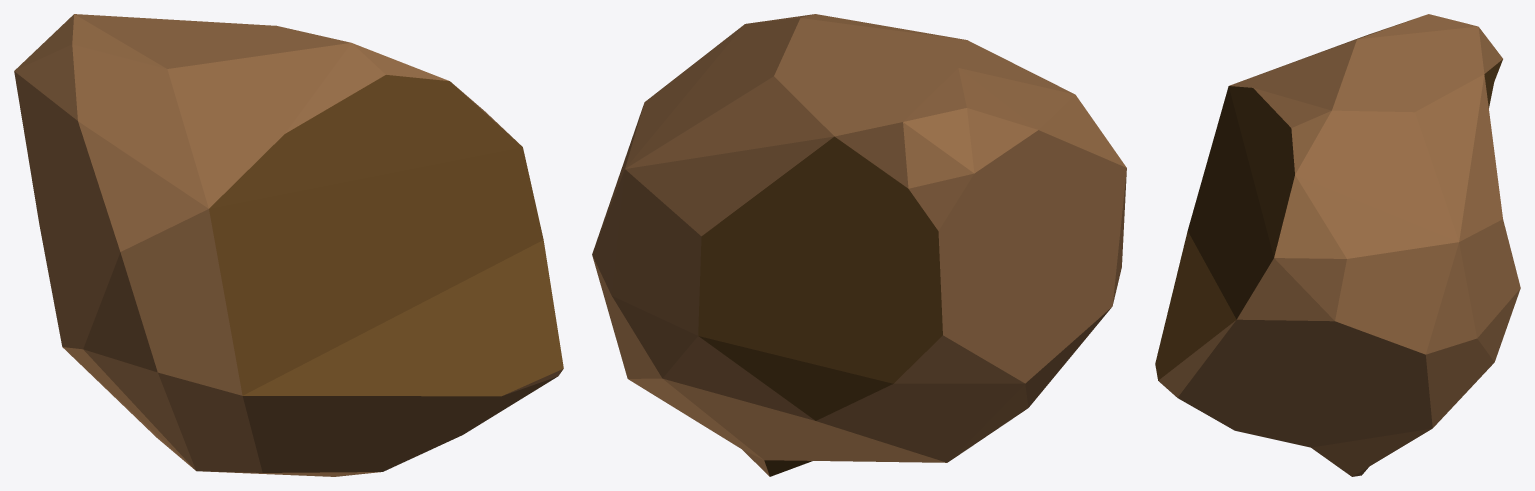
File: asteroid.glb
3 views of the same model, side by side, from view 1: azimuth 30°, elevation 25°; view 2: azimuth 150°, elevation 25°; view 3: azimuth 270°, elevation 25° (orthographic). The views are drawn at different scales.
Visible parts, largest first — view 1: Cube; view 2: Cube; view 3: Cube.
Part boxes in pixels (box(x1,y1,x2,y2)): Cube: box(14, 14, 563, 476); Cube: box(592, 14, 1126, 476); Cube: box(1155, 14, 1520, 476).
Bounding box in the file's own units: 1.17 × 1.12 × 1.01.
Materials: 1 (1 with a texture image).
